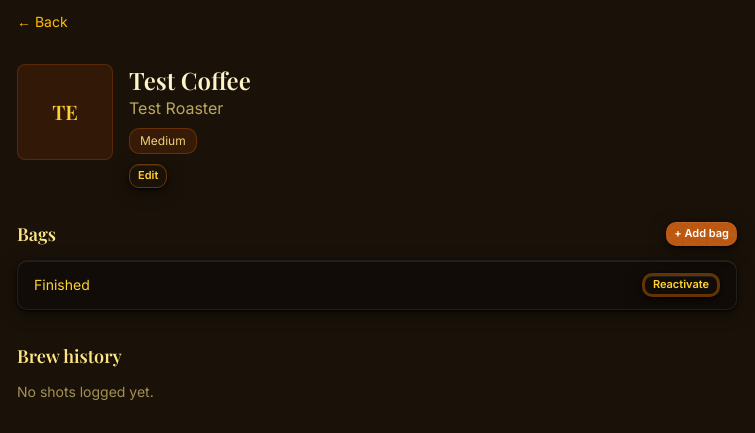
Test: CatalogDetail — bag card › CatalogDetail — bag status actions › reactivates a finished bag and shows a retryable row error on failure
Click the button "Reactivate" at (681, 285), box [642,273,720,297]
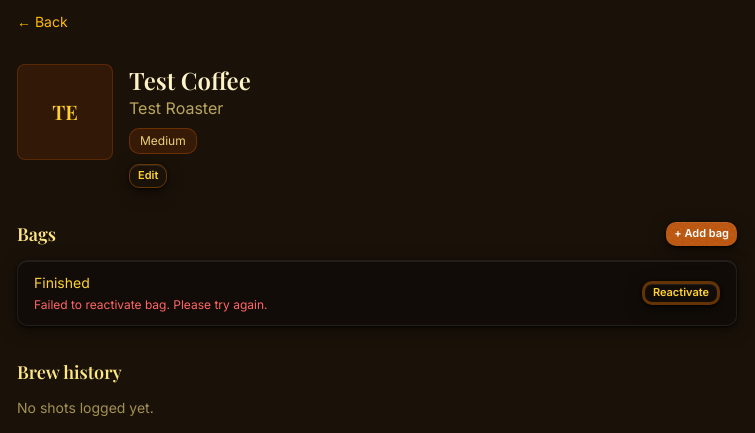
Expected: the text with test id "bag-status" reads "Finished", [34,274,90,291]
Expected: the text "Failed to reactivate bag. Please try again." is shown, [34,297,268,313]
